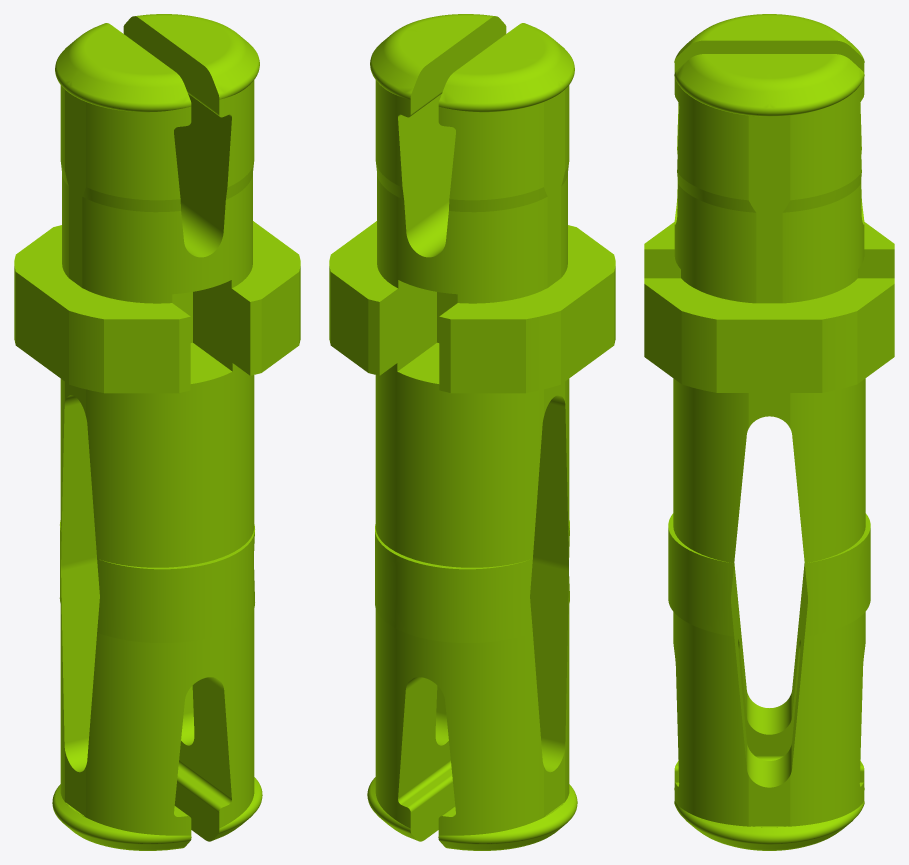
3 views of the same model, side by side, from view 1: azimuth 30°, elevation 25°; view 2: azimuth 150°, elevation 25°; view 3: azimuth 270°, elevation 25° (orthographic).
Parts seen in each view (by area): view 1: 228-2500-2261; view 2: 228-2500-2261; view 3: 228-2500-2261.
Boxes of the visible parts, x1=… form: 228-2500-2261: x1=14, y1=14, x2=300, y2=850; 228-2500-2261: x1=329, y1=14, x2=615, y2=850; 228-2500-2261: x1=644, y1=14, x2=894, y2=850.
Bounding box in the file's own units: 0.0058 × 0.0186 × 0.0055.
